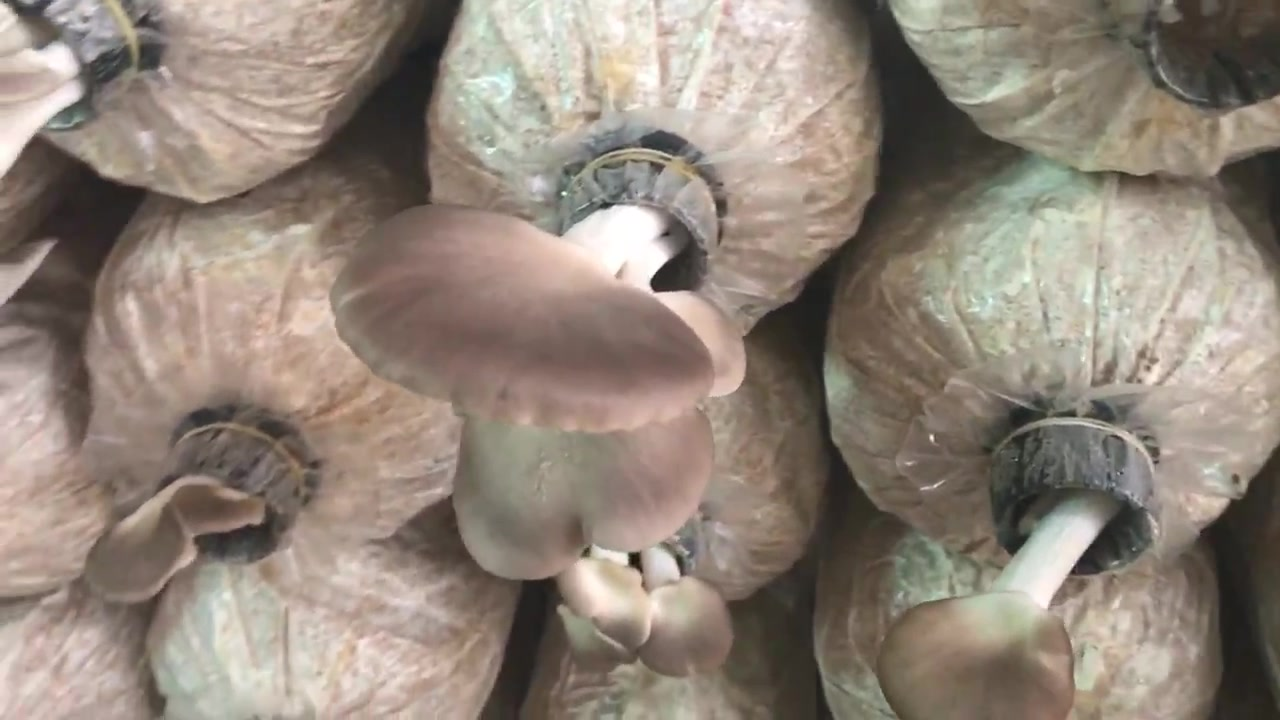nam: (334, 159, 747, 677), (881, 425, 1160, 720), (85, 432, 317, 602), (1, 1, 144, 169)
